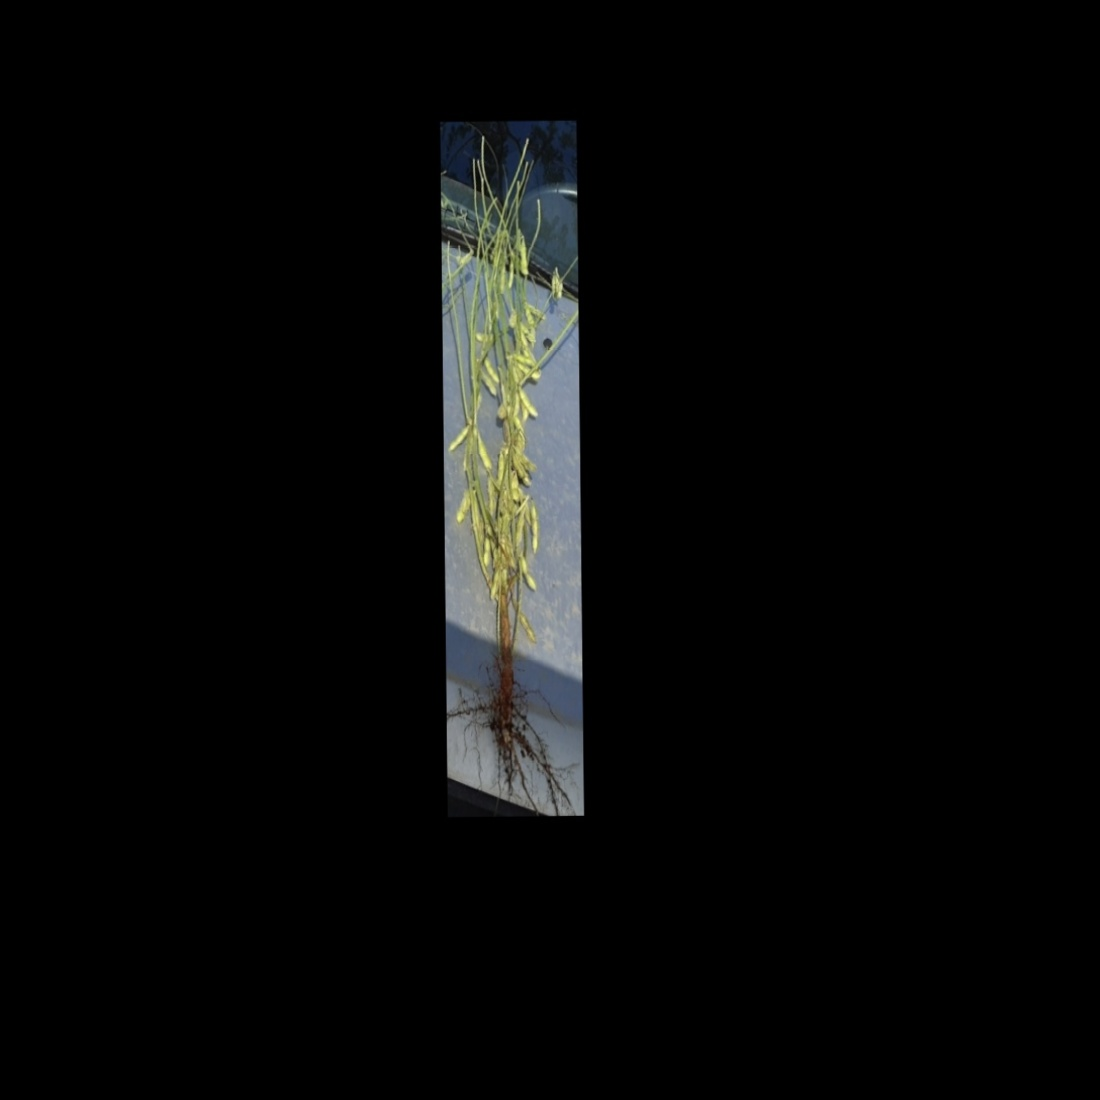pod: (474, 428, 494, 476), (519, 556, 541, 597), (527, 497, 540, 558), (517, 610, 538, 647), (516, 387, 539, 419), (518, 239, 531, 278), (483, 356, 500, 385)
soy: (443, 175, 579, 787)
